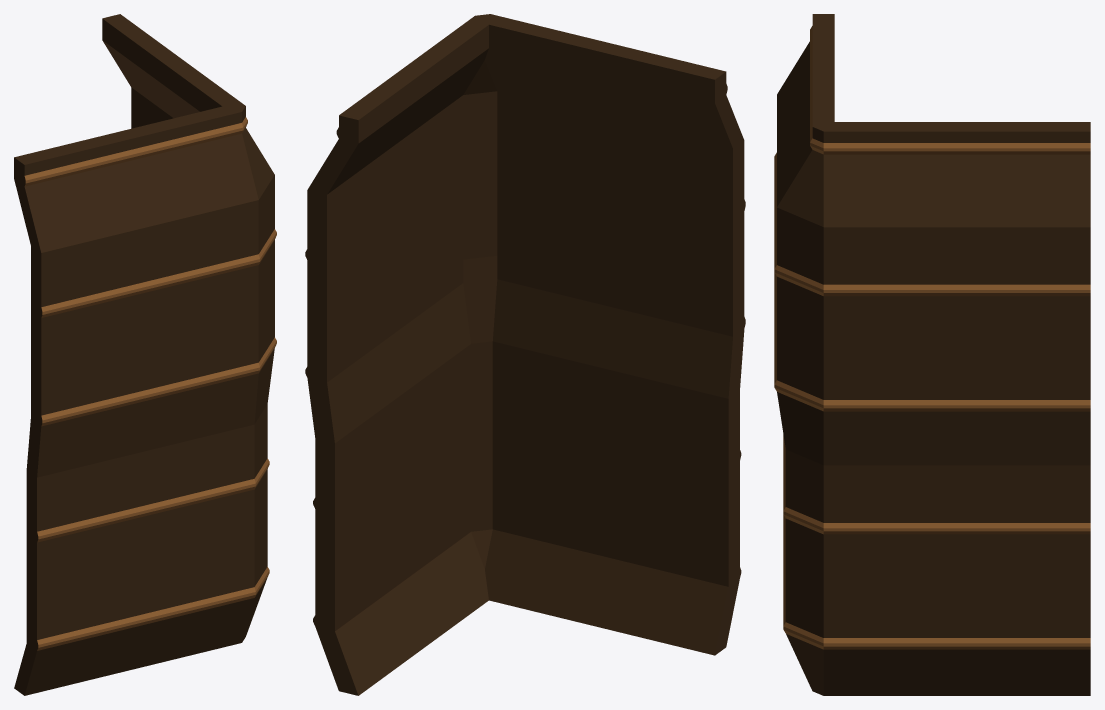
Rendered from quinaEsquerda.fbx.
3 views of the same model, side by side, from view 1: azimuth 30°, elevation 25°; view 2: azimuth 150°, elevation 25°; view 3: azimuth 270°, elevation 25° (orthographic). The views are drawn at different scales.
Visible parts, largest first — view 1: Cube.071; view 2: Cube.071; view 3: Cube.071.
Part boxes in pixels (left/top/right/bottom): Cube.071: left=14, top=14, right=276, bottom=695; Cube.071: left=305, top=14, right=745, bottom=695; Cube.071: left=774, top=14, right=1090, bottom=695.
Size of the model in its own units: 355 by 700 by 355.
